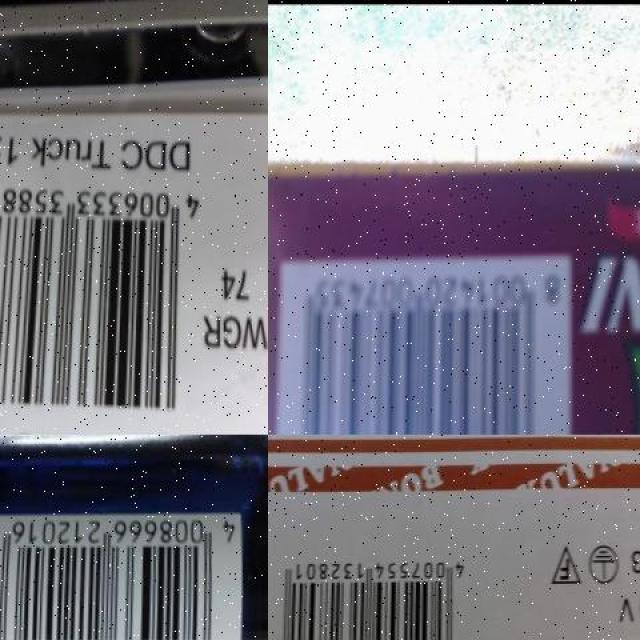Barcode: (0, 173, 204, 432), (278, 262, 578, 434), (0, 514, 246, 640), (268, 549, 476, 640)
